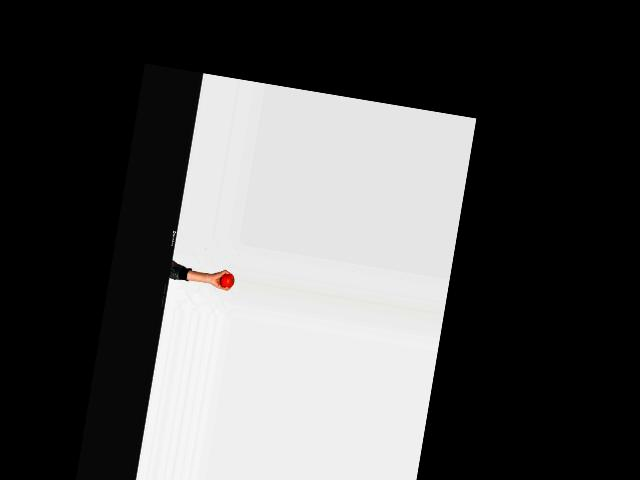tomato: (219, 272, 235, 289)
